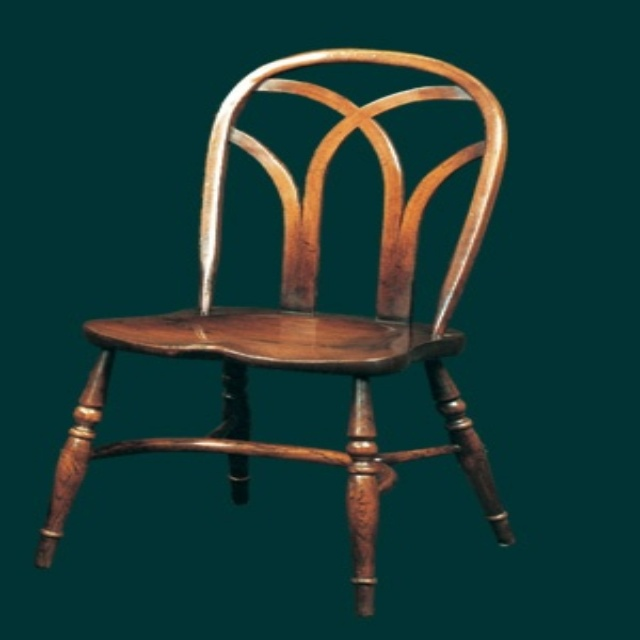obstacle: (34, 49, 512, 615)
